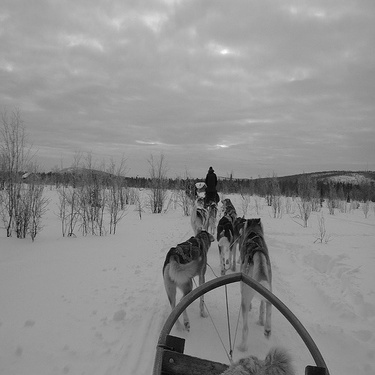dog: (161, 227, 213, 327), (243, 212, 278, 353), (207, 215, 238, 279), (184, 202, 218, 243), (218, 193, 236, 225), (231, 212, 245, 250)
